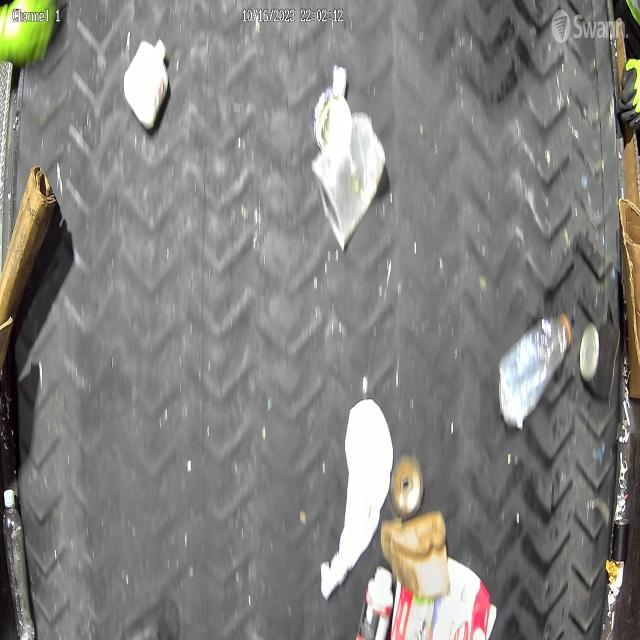can: (580, 317, 623, 403)
plastic_bottle: (497, 312, 576, 434)
